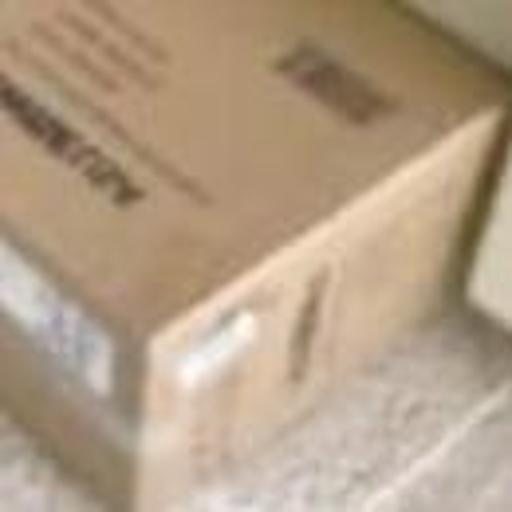Other: (1, 0, 509, 487)
